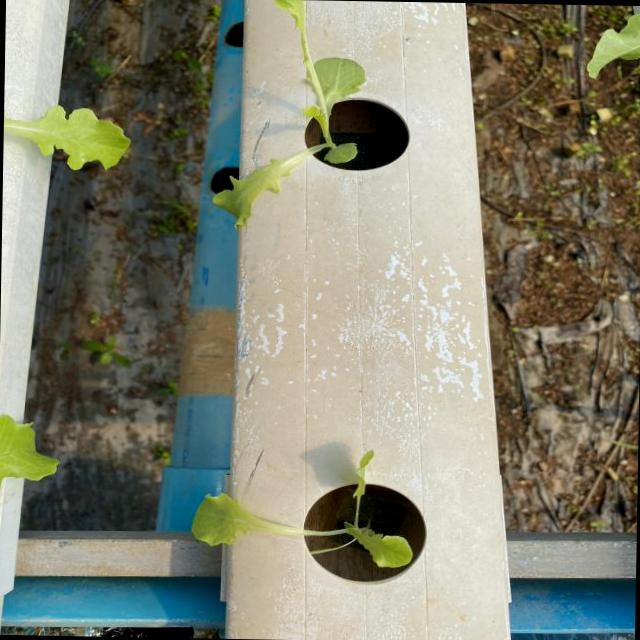Lettuce-Not-Ready-to-Harvest: (211, 0, 368, 233), (190, 443, 420, 575)
